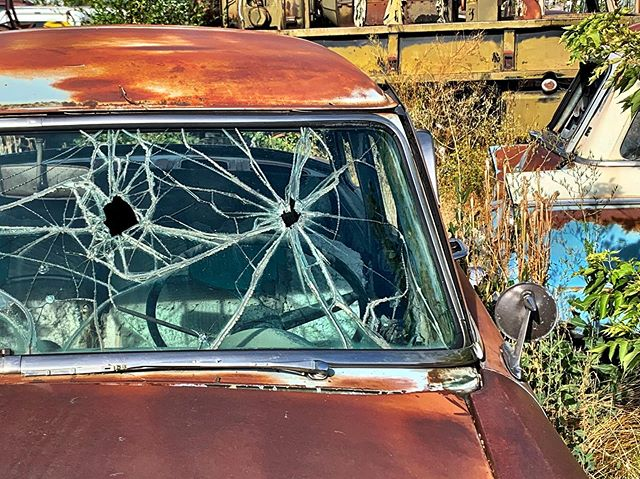car: (1, 38, 495, 479), (498, 59, 640, 295)
